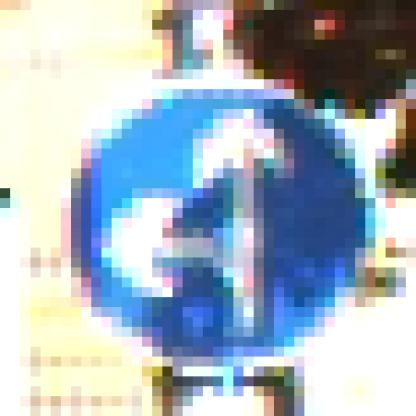Straight or Left: (52, 61, 366, 368)
